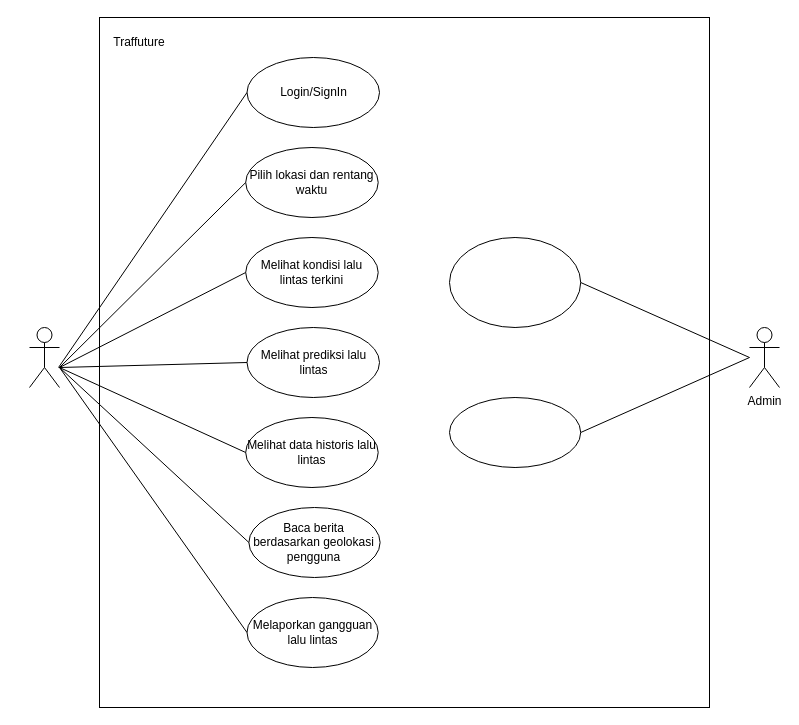
Image size: 799x725. Some labels were removed from this diagram. Each missing label, with the box of its shape:
Mengupdate data gangguan lalu lintas berdasarkan laporan pengguna: (448, 236, 581, 328)
Pengguna: (28, 326, 60, 388)
Perawatan Website: (448, 396, 581, 468)
